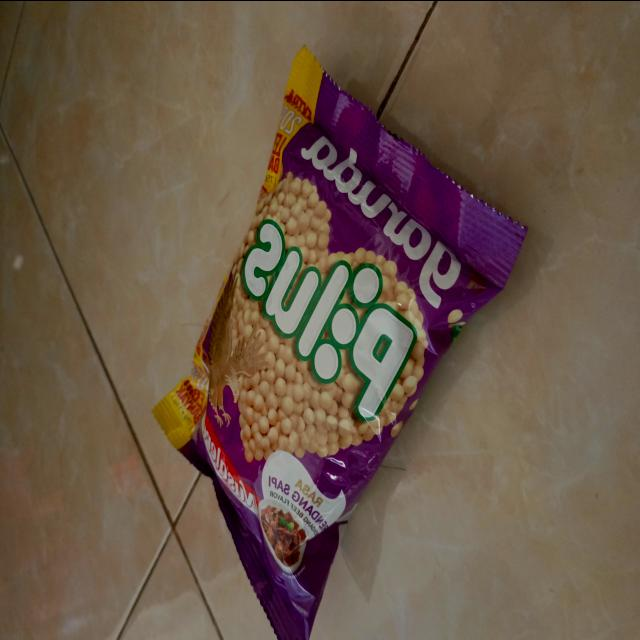pilus-rendang: (153, 38, 533, 640)
